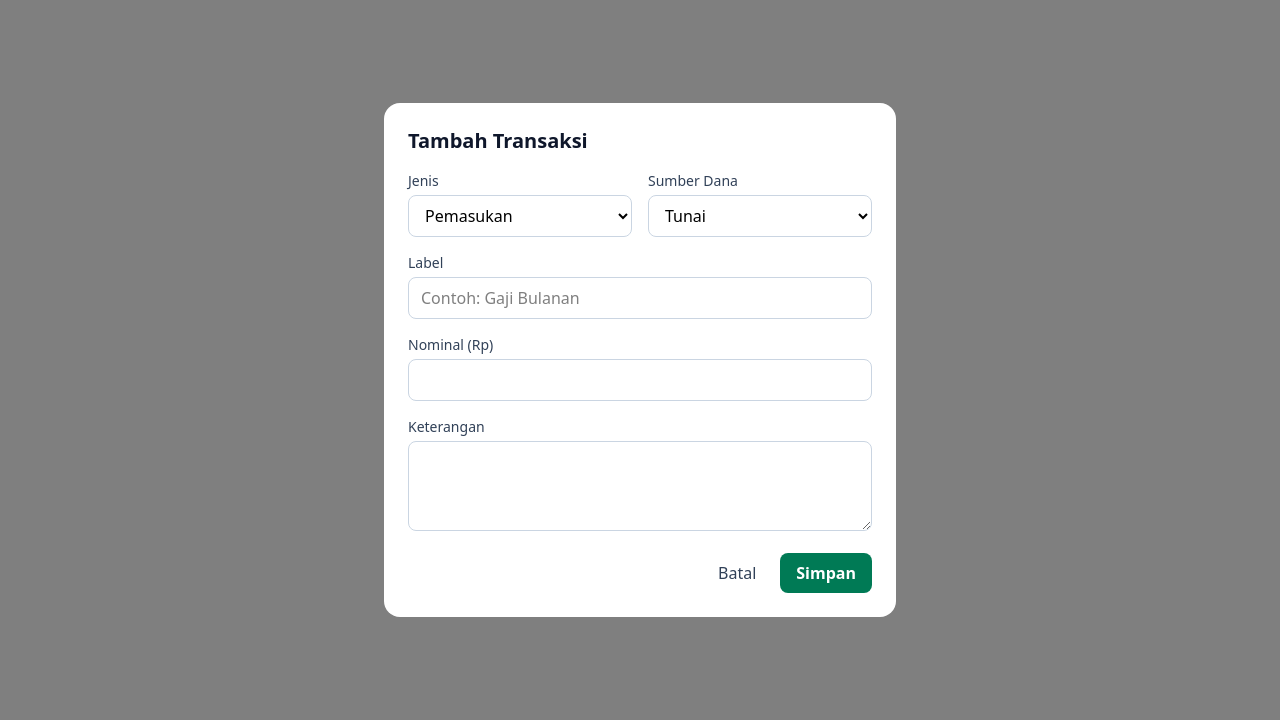
Test case: AddModal › batal & status menyimpan
The image size is (1280, 720).
Click the button "Batal".
click(737, 573)  # box x1=702 y1=553 x2=772 y2=593
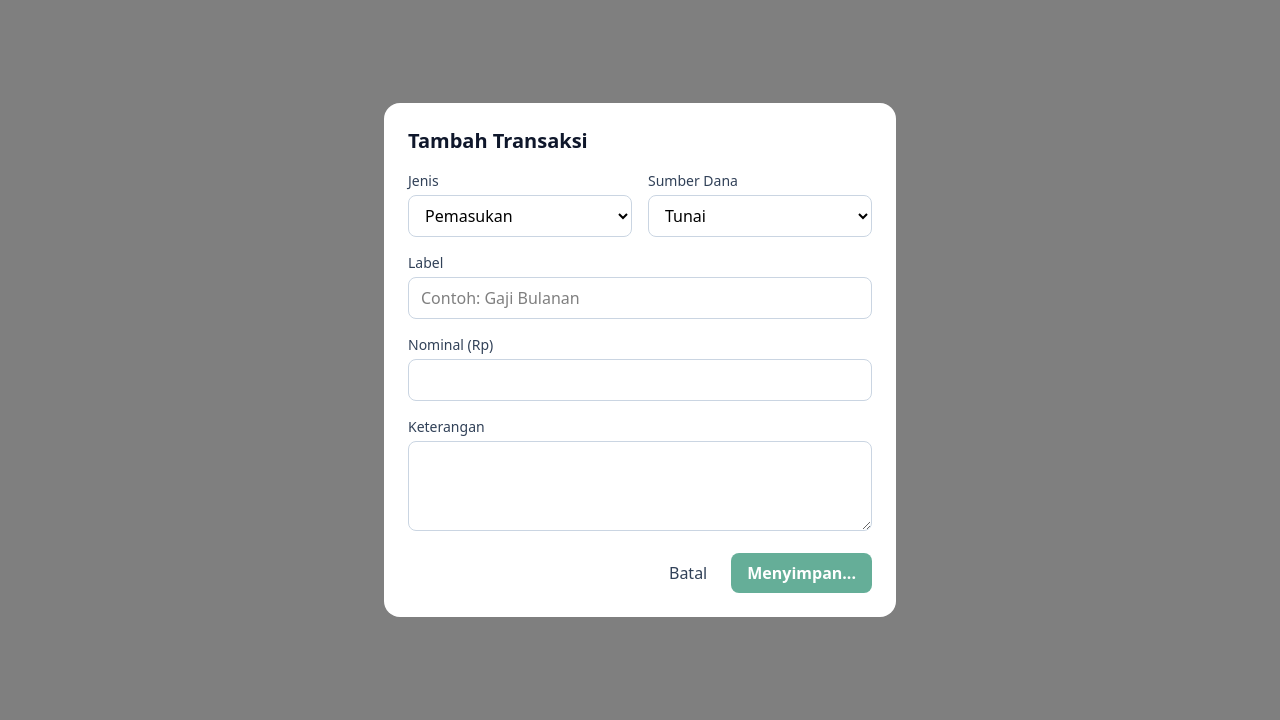
Expected: the submit button reads "Menyimpan...", x1=731 y1=553 x2=872 y2=593
